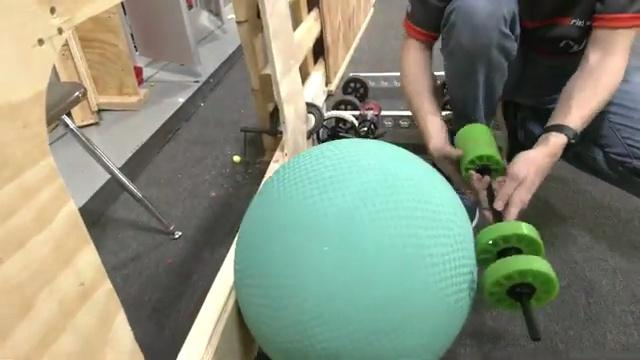ALGAE: (233, 136, 478, 358)
